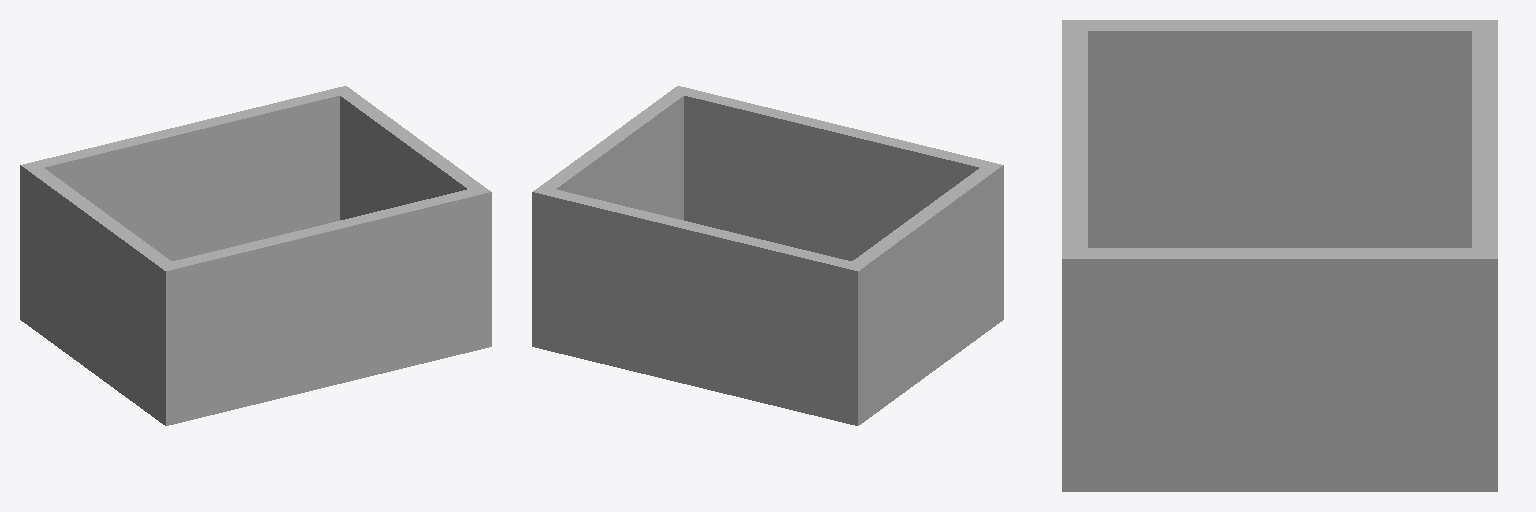
The robot description file, URDF, robot "room_urdf":
<?xml version="1.0" encoding="utf-8"?>
<!-- This URDF was automatically created by SolidWorks to URDF Exporter! Originally created by [author] ([email redacted]) 
     Commit Version: 1.6.0-4-g7f85cfe  Build Version: 1.6.7995.38578
     For more information, please see http://wiki.ros.org/sw_urdf_exporter -->
<robot
  name="room_urdf">
  <link
    name="wall_s1">
    <inertial>
      <origin
        xyz="-0.1 1 1.6"
        rpy="0 0 0" />
      <mass
        value="1280" />
      <inertia
        ixx="1518.93333333333"
        ixy="7.40148683083437E-16"
        ixz="-1.1842378929335E-15"
        iyy="1096.53333333333"
        iyz="0"
        izz="430.933333333333" />
    </inertial>
    <visual>
      <origin
        xyz="0 0 0"
        rpy="0 0 0" />
      <geometry>
        <mesh
          filename="package://room_urdf/meshes/wall_s1.STL" />
      </geometry>
      <material
        name="">
        <color
          rgba="0.752941176470588 0.752941176470588 0.752941176470588 0.5" />
      </material>
    </visual>
    <collision>
      <origin
        xyz="0 0 0"
        rpy="0 0 0" />
      <geometry>
        <mesh
          filename="package://room_urdf/meshes/wall_s1.STL" />
      </geometry>
    </collision>
  </link>
  <link
    name="Wall_l2">
    <inertial>
      <origin
        xyz="-0.1 -1 1.9"
        rpy="0 0 0" />
      <mass
        value="1680" />
      <inertia
        ixx="3029.6"
        ixy="9.17109497327253E-33"
        ixz="-6.36527867451756E-15"
        iyy="2475.2"
        iyz="2.20106279358541E-29"
        izz="565.6" />
    </inertial>
    <visual>
      <origin
        xyz="0 0 0"
        rpy="0 0 0" />
      <geometry>
        <mesh
          filename="package://room_urdf/meshes/Wall_l2.STL" />
      </geometry>
      <material
        name="">
        <color
          rgba="0.752941176470588 0.752941176470588 0.752941176470588 0.5" />
      </material>
    </visual>
    <collision>
      <origin
        xyz="0 0 0"
        rpy="0 0 0" />
      <geometry>
        <mesh
          filename="package://room_urdf/meshes/Wall_l2.STL" />
      </geometry>
    </collision>
  </link>
  <joint
    name="wall_l2"
    type="fixed">
    <origin
      xyz="0 0 0"
      rpy="-1.5707963267949 0 -1.5707963267949" />
    <parent
      link="wall_s1" />
    <child
      link="Wall_l2" />
    <axis
      xyz="0 0 0" />
  </joint>
  <link
    name="Wall_s3">
    <inertial>
      <origin
        xyz="4.1 1 1.4"
        rpy="0 0 0" />
      <mass
        value="1280" />
      <inertia
        ixx="1518.93333333333"
        ixy="7.40148683083458E-16"
        ixz="2.9605947323333E-16"
        iyy="1096.53333333333"
        iyz="-1.63704045272915E-30"
        izz="430.933333333333" />
    </inertial>
    <visual>
      <origin
        xyz="0 0 0"
        rpy="0 0 0" />
      <geometry>
        <mesh
          filename="package://room_urdf/meshes/Wall_s3.STL" />
      </geometry>
      <material
        name="">
        <color
          rgba="0.752941176470588 0.752941176470588 0.752941176470588 0.5" />
      </material>
    </visual>
    <collision>
      <origin
        xyz="0 0 0"
        rpy="0 0 0" />
      <geometry>
        <mesh
          filename="package://room_urdf/meshes/Wall_s3.STL" />
      </geometry>
    </collision>
  </link>
  <joint
    name="wall_s3"
    type="fixed">
    <origin
      xyz="0 0 0"
      rpy="1.5707963267949 0 0" />
    <parent
      link="wall_s1" />
    <child
      link="Wall_s3" />
    <axis
      xyz="0 0 0" />
  </joint>
  <link
    name="Wall_l4">
    <inertial>
      <origin
        xyz="3.1 -1 2.1"
        rpy="0 0 0" />
      <mass
        value="1680" />
      <inertia
        ixx="3029.6"
        ixy="4.31408307542741E-31"
        ixz="-1.35521223872578E-14"
        iyy="2475.2"
        iyz="-9.17109497327254E-31"
        izz="565.6" />
    </inertial>
    <visual>
      <origin
        xyz="0 0 0"
        rpy="0 0 0" />
      <geometry>
        <mesh
          filename="package://room_urdf/meshes/Wall_l4.STL" />
      </geometry>
      <material
        name="">
        <color
          rgba="0.752941176470588 0.752941176470588 0.752941176470588 0.5" />
      </material>
    </visual>
    <collision>
      <origin
        xyz="0 0 0"
        rpy="0 0 0" />
      <geometry>
        <mesh
          filename="package://room_urdf/meshes/Wall_l4.STL" />
      </geometry>
    </collision>
  </link>
  <joint
    name="wall_l4"
    type="fixed">
    <origin
      xyz="0 0 0"
      rpy="-1.5707963267949 0 -1.5707963267949" />
    <parent
      link="wall_s1" />
    <child
      link="Wall_l4" />
    <axis
      xyz="0 0 0" />
  </joint>
</robot>

--- Facts derived from the render (not from the file) ---
Views: 3 orthographic renders of the robot side by side, from view 1: azimuth 30°, elevation 25°; view 2: azimuth 150°, elevation 25°; view 3: azimuth 270°, elevation 25°.
Robot: room_urdf — 4 links, 3 joints (3 fixed); root link wall_s1; default pose: all joints at 0.
Links seen in each view (by area): view 1: Wall_l4, Wall_l2, wall_s1, Wall_s3; view 2: Wall_l2, Wall_l4, wall_s1, Wall_s3; view 3: Wall_s3, wall_s1, Wall_l4, Wall_l2.
Boxes of the visible links, box(x1,y1,x2,y2) form: Wall_l4: box(172, 186, 491, 422); Wall_l2: box(20, 89, 339, 325); wall_s1: box(29, 168, 180, 425); Wall_s3: box(332, 86, 482, 219); Wall_l2: box(547, 189, 866, 425); Wall_l4: box(670, 86, 988, 260); wall_s1: box(852, 162, 1003, 419); Wall_s3: box(532, 92, 683, 349); Wall_s3: box(1088, 248, 1497, 491); wall_s1: box(1062, 20, 1471, 247); Wall_l4: box(1062, 31, 1087, 491); Wall_l2: box(1472, 20, 1497, 247).
Size in the robot's own frame: 4.4 by 3.4 by 2 metres.
4 mesh visuals loaded from 4 distinct referenced files (4 binary STL).